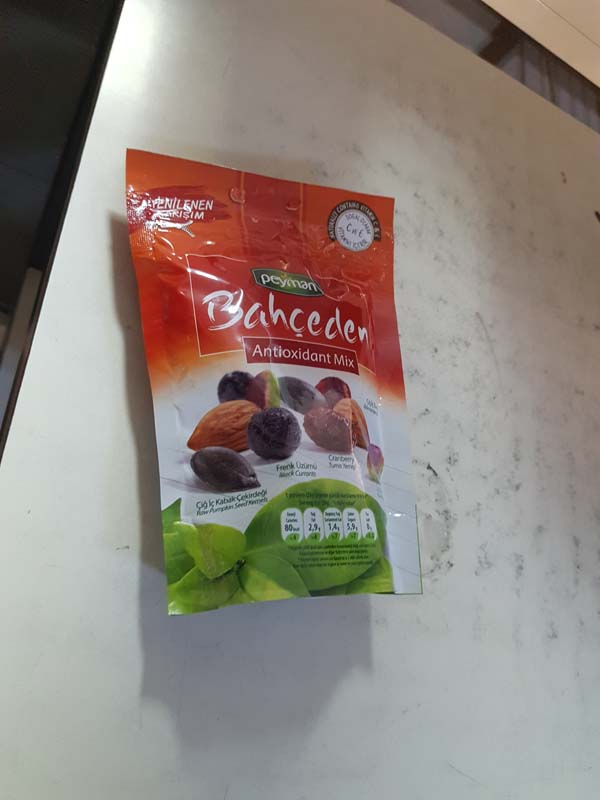bahcedenantioxidan: (121, 150, 427, 614)
